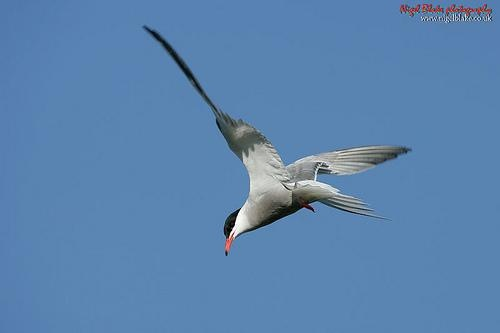bird: (142, 23, 412, 256)
